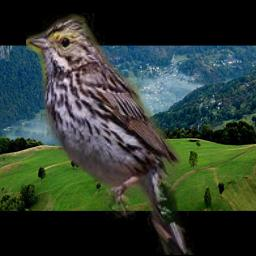Sparrow: (26, 13, 194, 255)
